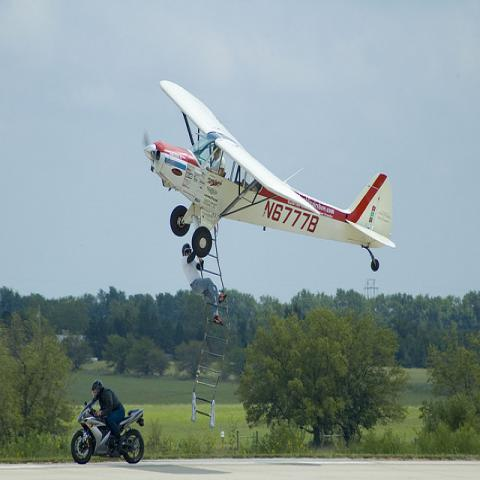motorcycle: (70, 400, 144, 464)
